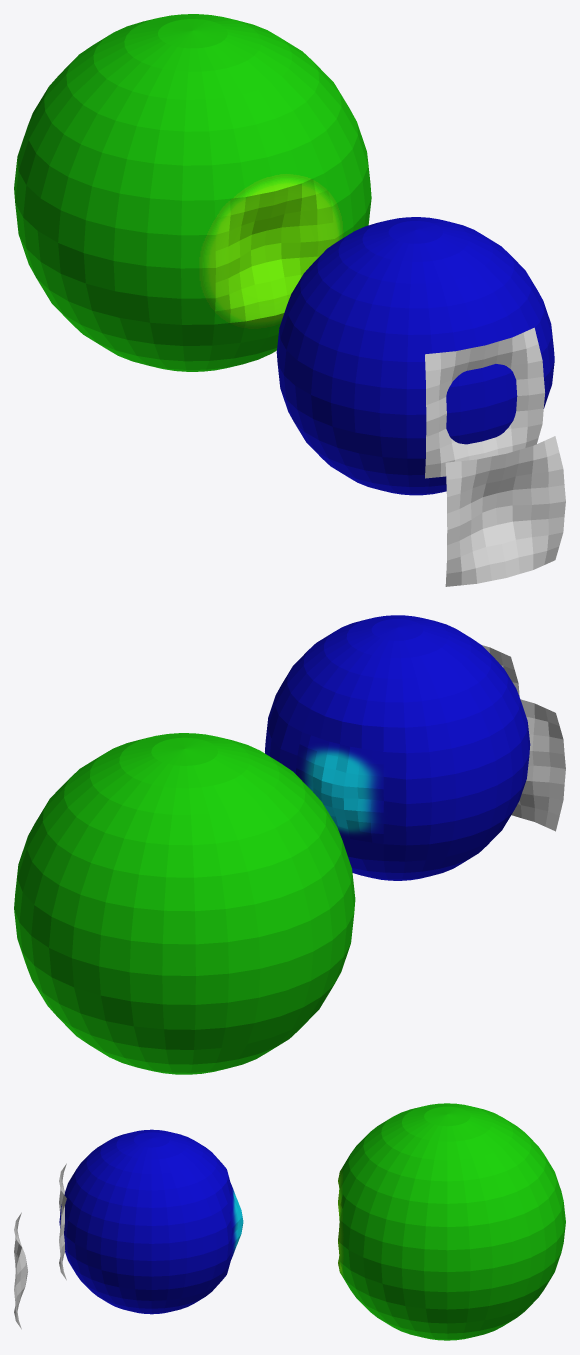
File: EnzymeAndSubstrate.fbx
The picture shows the model from 3 angles, top to bottom: view 1: azimuth 30°, elevation 25°; view 2: azimuth 150°, elevation 25°; view 3: azimuth 270°, elevation 25°; orthographic projection. The views are drawn at different scales.
Parts seen in each view (by area): view 1: Enzyme, Substrate, ExtraActiveSite; view 2: Enzyme, Substrate, ExtraActiveSite; view 3: Enzyme, Substrate, ExtraActiveSite.
Boxes of the visible parts, <box> form: Enzyme: <box>14,14,371,371</box>; Substrate: <box>276,217,554,495</box>; ExtraActiveSite: <box>425,327,565,586</box>; Enzyme: <box>14,733,355,1074</box>; Substrate: <box>265,615,530,880</box>; ExtraActiveSite: <box>482,645,565,831</box>; Enzyme: <box>338,1103,565,1340</box>; Substrate: <box>59,1129,243,1314</box>; ExtraActiveSite: <box>14,1163,66,1329</box>.
Size of the model in its own units: 200 by 200 by 465.
